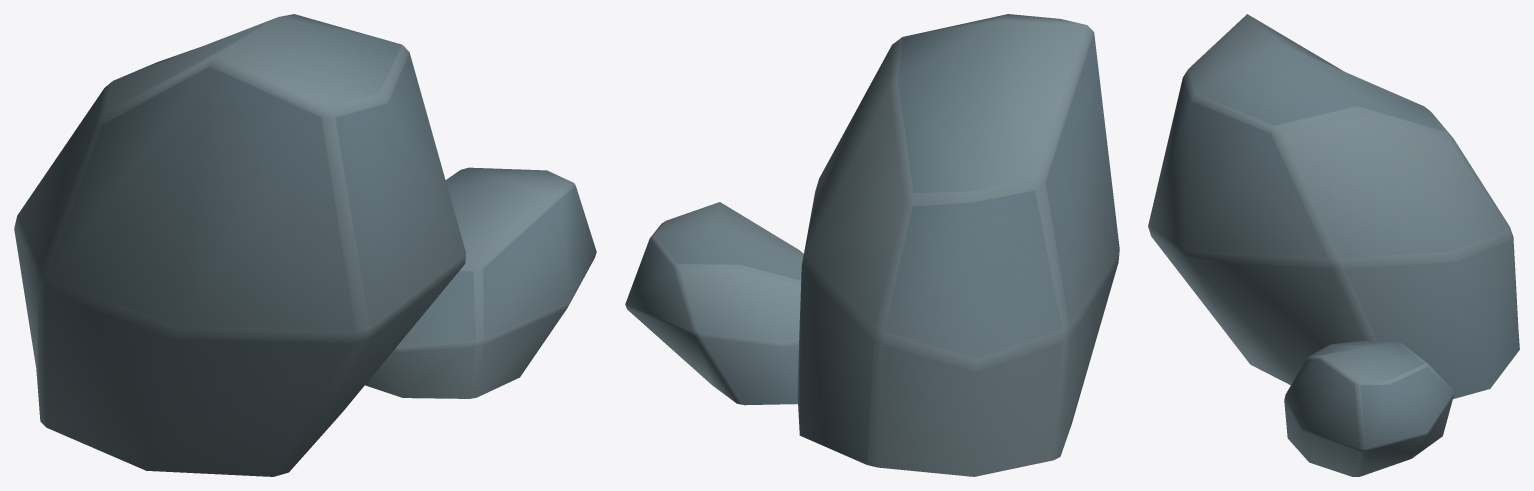
The model's file is Rock.fbx.
The picture shows the model from 3 angles, left to right: view 1: azimuth 30°, elevation 25°; view 2: azimuth 150°, elevation 25°; view 3: azimuth 270°, elevation 25°; orthographic projection. The views are drawn at different scales.
Parts seen in each view (by area): view 1: Rock; view 2: Rock; view 3: Rock.
Boxes of the visible parts, <box> form: Rock: <box>14,14,596,476</box>; Rock: <box>625,14,1119,476</box>; Rock: <box>1148,14,1519,476</box>.
Bounding box in the file's own units: 1.41 × 1.11 × 1.14.
